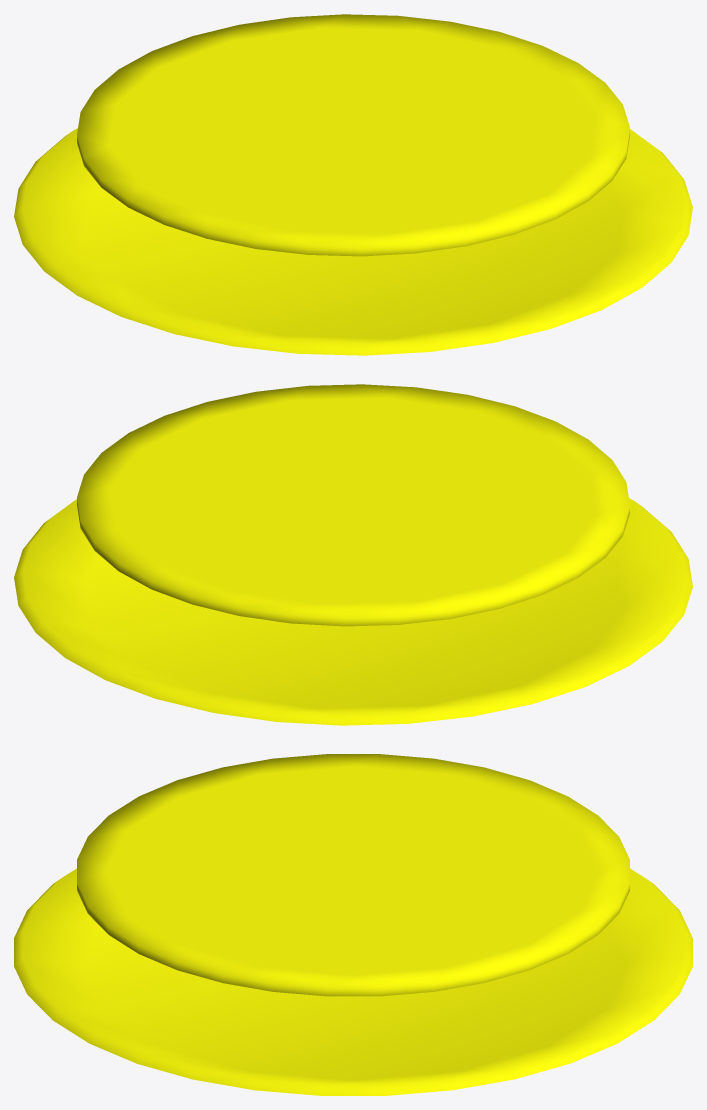
File: ManHole.glb
3 renders of one model, top to bottom at view 1: azimuth 30°, elevation 25°; view 2: azimuth 150°, elevation 25°; view 3: azimuth 270°, elevation 25°, orthographic.
Parts seen in each view (by area): view 1: ManHole01; view 2: ManHole01; view 3: ManHole01.
Part boxes in pixels (box(x1,y1,x2,y2)): ManHole01: box(14, 14, 692, 355); ManHole01: box(14, 384, 692, 725); ManHole01: box(14, 754, 692, 1095).
Bounding box in the file's own units: 1.17 × 0.1788 × 1.17.
1 material, 1 textured.
